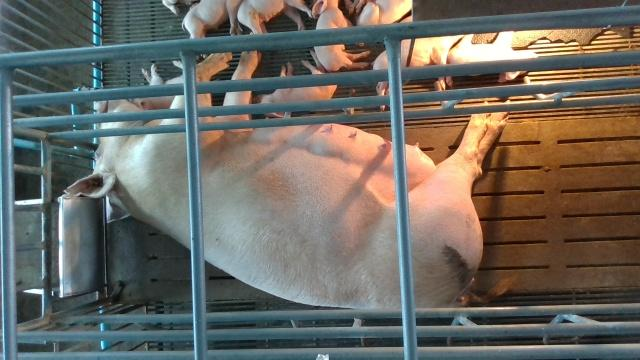piglet: (372, 34, 463, 96), (251, 60, 338, 118), (447, 30, 540, 83), (312, 0, 370, 71), (237, 0, 314, 36), (131, 59, 185, 110), (182, 0, 243, 40)
sow-sleep-lactate: (65, 50, 510, 310)
